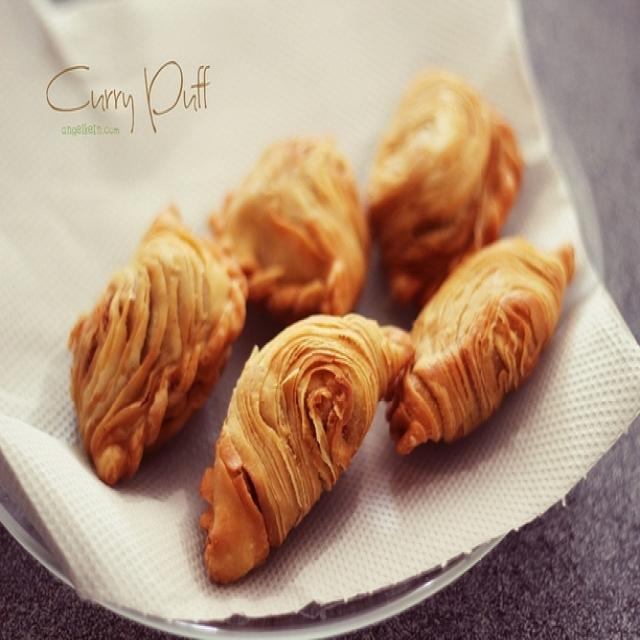炸货点心: (64, 61, 577, 576)
